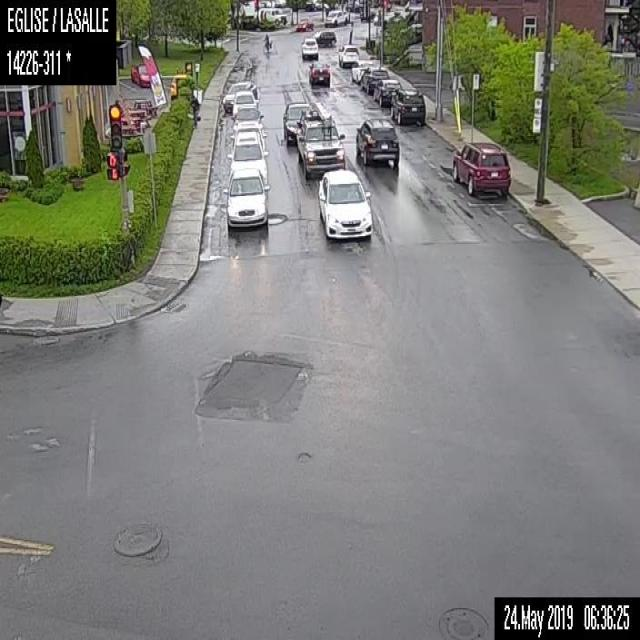cyclist: (261, 31, 274, 52)
pedestrian: (190, 94, 200, 128)
vehicle: (294, 101, 346, 176), (318, 171, 372, 240), (449, 139, 511, 197), (221, 166, 270, 233), (355, 118, 400, 168), (227, 131, 270, 176), (389, 86, 426, 127), (281, 99, 312, 144), (221, 79, 258, 111), (372, 77, 403, 106), (230, 105, 264, 130), (358, 64, 388, 92), (231, 90, 258, 115), (306, 63, 330, 87), (130, 62, 152, 87), (258, 6, 288, 24), (337, 43, 359, 66), (322, 8, 349, 25), (300, 37, 318, 59), (314, 29, 336, 46), (294, 17, 314, 32)
